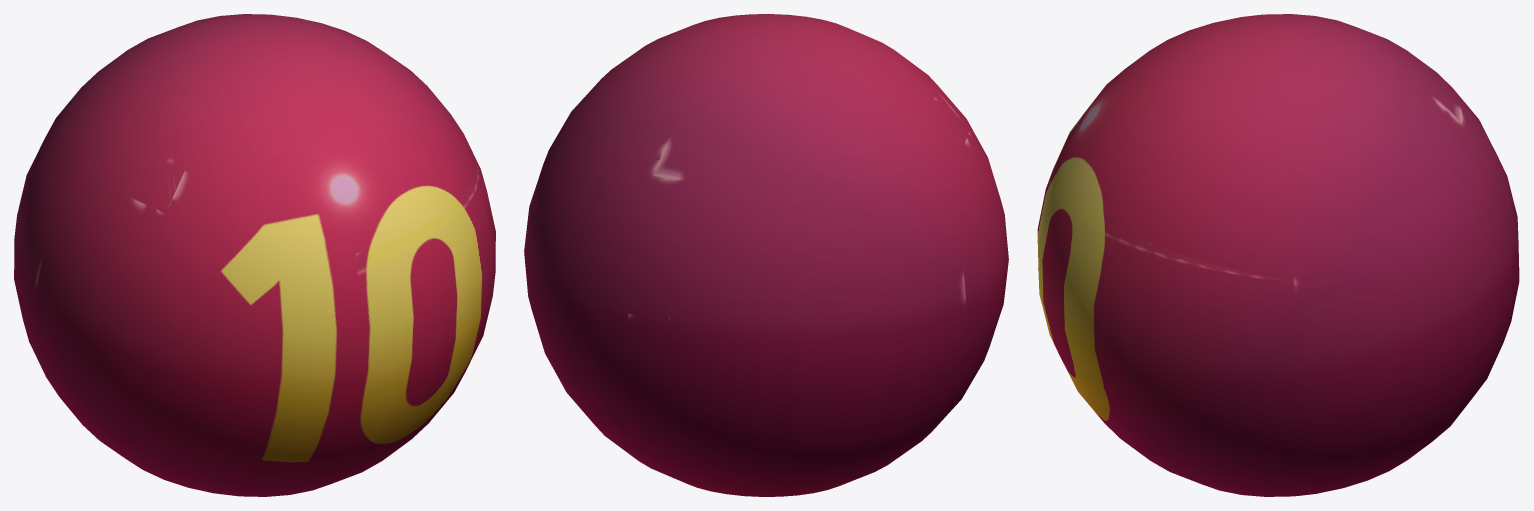
File: Enemy 10.fbx
3 renders of one model, left to right at view 1: azimuth 30°, elevation 25°; view 2: azimuth 150°, elevation 25°; view 3: azimuth 270°, elevation 25°, orthographic.
Visible parts, largest first — view 1: Body 1.009; view 2: Body 1.009; view 3: Body 1.009.
Boxes of the visible parts, <box> form: Body 1.009: <box>14,14,495,496</box>; Body 1.009: <box>524,14,1008,496</box>; Body 1.009: <box>1037,14,1519,496</box>.
Size of the model in its own units: 472 by 474 by 472.
1 material, 1 textured.
